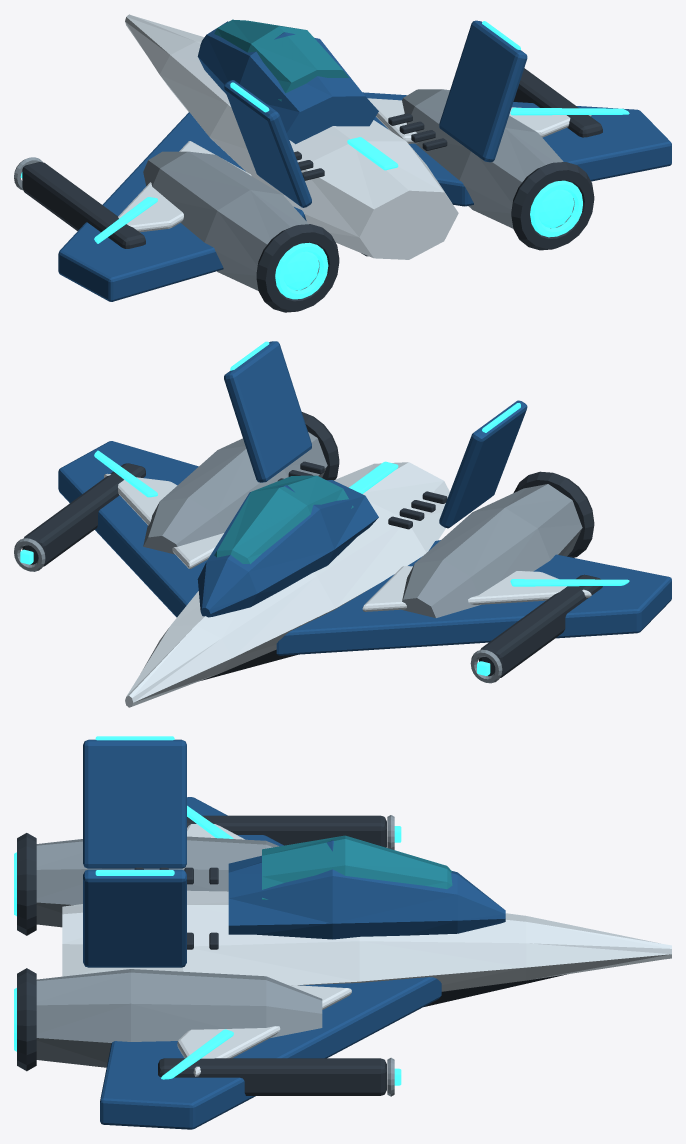
The model's file is Aurora.fbx.
The picture shows the model from 3 angles, top to bottom: view 1: azimuth 30°, elevation 25°; view 2: azimuth 150°, elevation 25°; view 3: azimuth 270°, elevation 25°; orthographic projection. The views are drawn at different scales.
Visible parts, largest first — view 1: ND_HULL; view 2: ND_HULL; view 3: ND_HULL.
Boxes of the visible parts, x1,y1,x2,y2 form: ND_HULL: [14, 14, 671, 312]; ND_HULL: [14, 341, 671, 707]; ND_HULL: [14, 736, 671, 1129].
Size of the model in its own units: 352 by 112 by 316.
